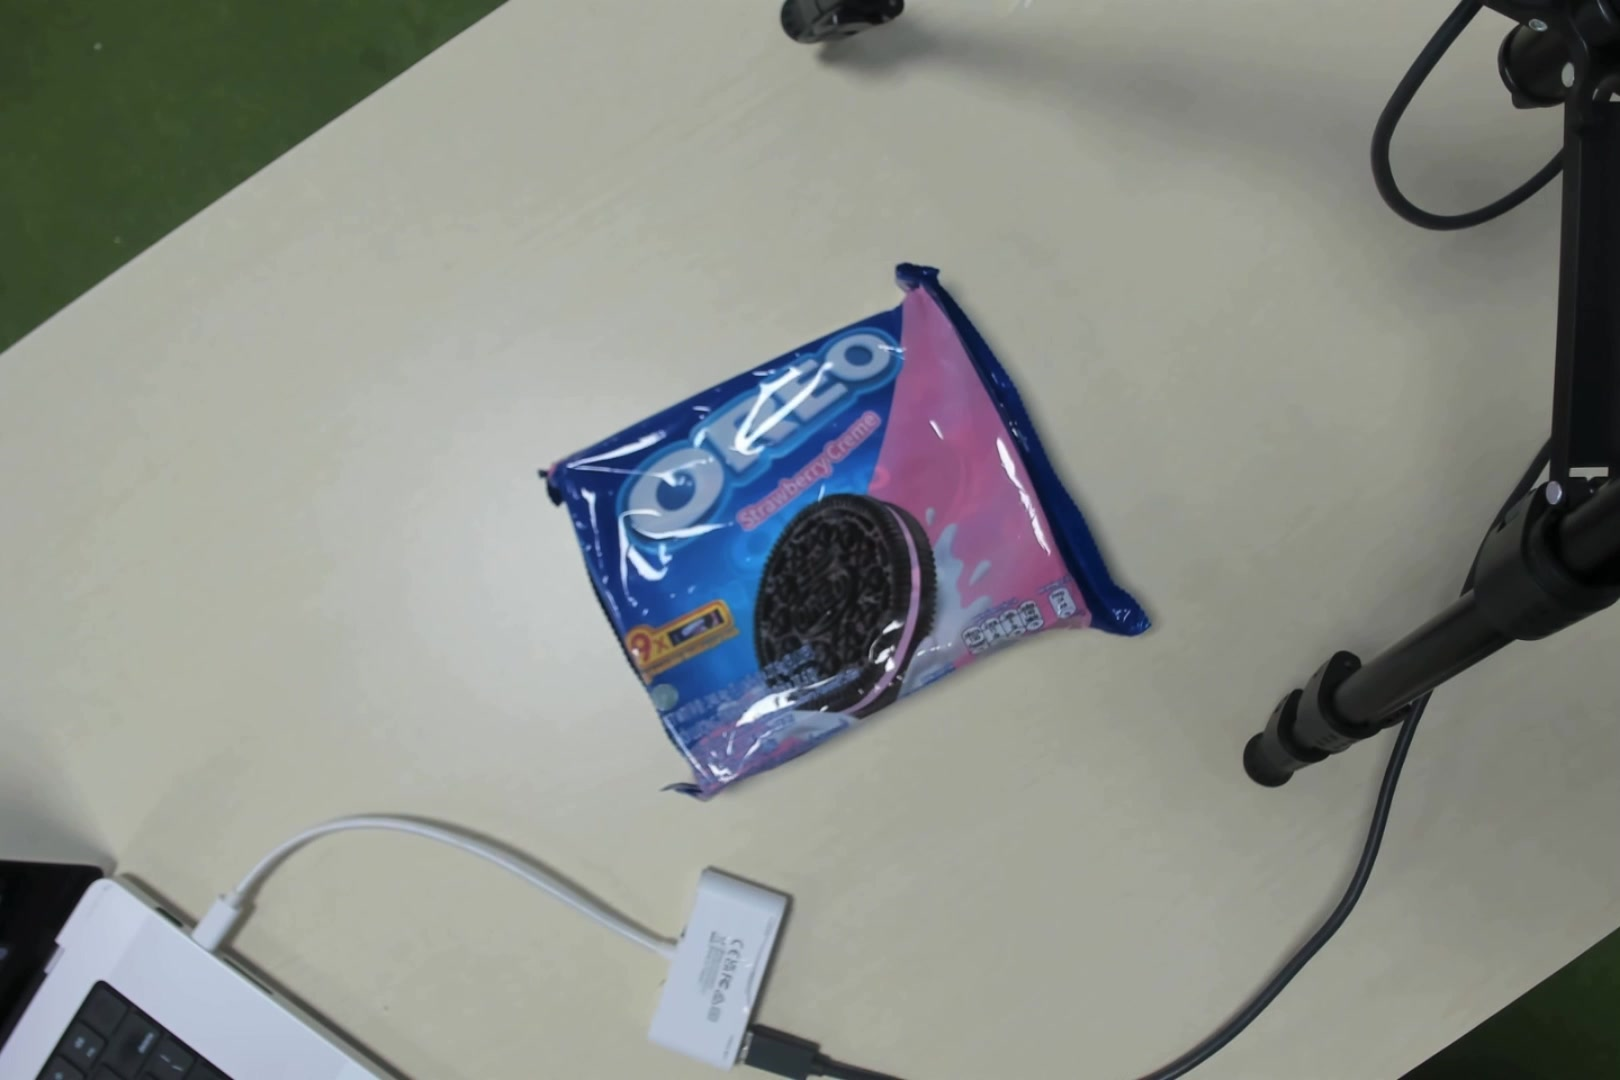SweetsChocolatesOthers_200-299g_Halal_NonHealthy: (589, 328, 1109, 781)
